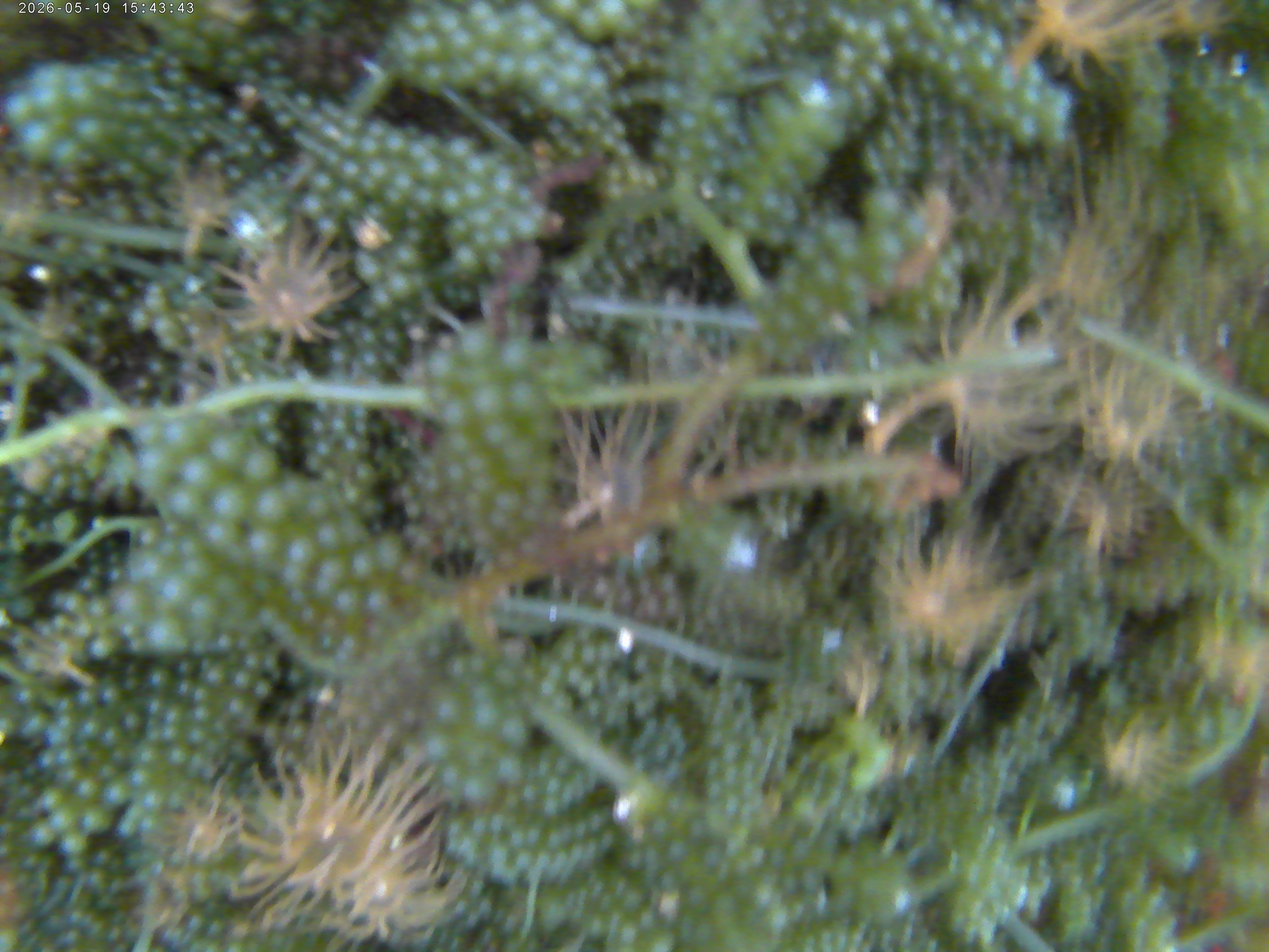Darkening: (397, 553, 423, 582), (474, 527, 502, 553), (494, 547, 522, 573), (302, 35, 328, 62), (523, 539, 549, 561), (327, 67, 350, 91), (298, 63, 321, 87), (328, 39, 352, 62), (427, 503, 450, 527), (345, 53, 368, 77), (280, 42, 300, 69), (619, 587, 639, 613), (638, 597, 657, 620), (656, 571, 674, 594), (590, 573, 607, 596), (636, 573, 652, 597), (665, 596, 682, 618), (321, 614, 339, 632), (437, 335, 454, 351), (409, 326, 425, 341), (420, 337, 436, 352), (426, 342, 441, 357)
Harvestable: (454, 328, 500, 369), (510, 386, 548, 431), (255, 490, 296, 525), (16, 122, 53, 160), (862, 192, 903, 226), (471, 386, 507, 424), (154, 577, 197, 608), (500, 344, 537, 379), (239, 449, 277, 483), (147, 620, 184, 653), (867, 231, 902, 265), (164, 423, 198, 455), (212, 487, 247, 518), (215, 436, 247, 469), (182, 455, 215, 487), (377, 535, 406, 571), (246, 526, 279, 557), (64, 78, 98, 108), (135, 447, 170, 475), (186, 595, 222, 622), (307, 495, 338, 526), (73, 115, 105, 145), (447, 60, 480, 89), (116, 590, 150, 618), (421, 353, 455, 381), (5, 95, 36, 125), (139, 554, 169, 585), (897, 214, 927, 245), (1098, 679, 1128, 710), (168, 487, 199, 517), (790, 794, 819, 826), (831, 242, 862, 271), (334, 585, 363, 616), (500, 716, 529, 747), (771, 307, 800, 338), (203, 521, 237, 547), (139, 141, 168, 171), (51, 141, 80, 170), (213, 572, 242, 601), (472, 701, 500, 731), (577, 8, 604, 39), (597, 0, 626, 28), (798, 294, 825, 324), (53, 509, 80, 539), (290, 536, 316, 567), (493, 756, 524, 782), (1012, 114, 1036, 147), (478, 20, 506, 48), (462, 774, 490, 802), (442, 399, 470, 427), (494, 56, 521, 85), (33, 86, 62, 113), (884, 10, 911, 39), (389, 272, 415, 302), (357, 260, 388, 285), (83, 807, 112, 833), (93, 69, 122, 95), (392, 244, 422, 269), (88, 634, 119, 658), (818, 221, 845, 248), (434, 698, 461, 725), (419, 157, 445, 185), (514, 27, 540, 55), (492, 664, 520, 690), (465, 2, 494, 27), (427, 385, 458, 408), (59, 830, 86, 856), (513, 216, 539, 243), (766, 906, 792, 933), (316, 522, 342, 549), (868, 265, 895, 291), (447, 31, 473, 57), (21, 712, 47, 738), (432, 8, 458, 34), (665, 837, 691, 863), (197, 16, 223, 42), (134, 740, 159, 767), (123, 121, 150, 146), (449, 430, 476, 455), (423, 65, 447, 93), (354, 548, 376, 578), (645, 931, 676, 952), (342, 517, 367, 543), (947, 82, 973, 107), (537, 76, 562, 102), (583, 914, 609, 939), (168, 27, 194, 52), (781, 21, 807, 46), (317, 558, 344, 582), (447, 138, 474, 162), (811, 263, 838, 287), (159, 98, 186, 122), (439, 190, 464, 215), (40, 785, 65, 810), (115, 98, 140, 123), (991, 70, 1016, 95), (520, 54, 545, 79), (301, 195, 325, 221), (335, 189, 361, 213), (551, 36, 577, 60), (792, 242, 818, 266), (469, 206, 495, 230), (745, 842, 769, 868), (841, 271, 867, 295), (467, 450, 493, 474), (971, 50, 993, 78), (282, 565, 311, 586), (549, 0, 578, 21), (104, 781, 128, 806), (490, 170, 515, 194), (562, 97, 586, 122), (148, 666, 172, 691), (134, 98, 158, 123), (709, 97, 734, 121), (701, 843, 725, 868), (439, 762, 463, 787), (250, 575, 275, 599), (257, 603, 282, 627), (487, 841, 511, 866), (367, 589, 390, 615), (405, 12, 431, 35), (494, 488, 520, 511), (920, 21, 944, 45), (462, 183, 486, 207), (561, 65, 585, 89), (474, 48, 498, 72), (621, 887, 645, 911), (229, 738, 253, 762), (284, 720, 308, 744), (806, 149, 830, 173), (687, 817, 711, 841), (471, 680, 495, 704), (464, 156, 487, 181), (447, 219, 470, 244), (420, 36, 443, 61), (11, 596, 36, 619), (762, 225, 787, 248), (1049, 91, 1071, 117), (424, 734, 446, 760), (55, 766, 83, 786), (127, 767, 151, 790), (72, 617, 95, 641), (223, 46, 247, 69), (87, 596, 110, 620), (85, 868, 108, 892), (255, 404, 278, 428), (365, 200, 389, 223), (93, 298, 117, 321), (164, 67, 188, 90), (316, 216, 340, 239), (724, 835, 747, 859), (454, 246, 476, 271), (469, 230, 494, 252), (660, 83, 682, 108), (270, 4, 295, 26), (140, 787, 163, 810), (415, 188, 438, 211), (62, 591, 85, 614), (1018, 86, 1041, 109), (179, 535, 202, 558), (514, 2, 537, 25), (45, 725, 68, 748), (934, 260, 957, 283), (447, 655, 470, 678), (310, 576, 334, 598), (77, 779, 101, 801), (392, 173, 416, 195), (383, 135, 407, 157), (355, 462, 377, 486), (862, 21, 883, 46), (921, 43, 942, 68), (74, 620, 100, 640), (676, 112, 698, 135), (698, 131, 720, 154), (115, 158, 138, 180), (54, 635, 76, 658), (981, 31, 1004, 53), (359, 175, 381, 198), (398, 60, 420, 83), (761, 191, 783, 214), (557, 640, 579, 663), (780, 871, 802, 894), (311, 172, 335, 193), (619, 921, 640, 945), (651, 815, 672, 839), (168, 743, 188, 768), (35, 822, 54, 848), (948, 25, 970, 47), (50, 807, 72, 829), (838, 16, 860, 38), (476, 78, 498, 100), (704, 728, 726, 750), (672, 145, 694, 167), (624, 848, 646, 870), (85, 242, 107, 264), (1026, 62, 1047, 85), (491, 228, 512, 251), (369, 160, 390, 183), (341, 161, 362, 184), (863, 64, 884, 87), (484, 250, 505, 273), (721, 739, 742, 762), (238, 65, 261, 86), (472, 475, 495, 496), (136, 425, 160, 445), (383, 188, 404, 210), (574, 46, 595, 68), (446, 463, 467, 485), (110, 203, 132, 224), (724, 184, 745, 206), (899, 37, 919, 60), (872, 46, 895, 66), (540, 795, 560, 818), (638, 908, 658, 931), (578, 643, 598, 666), (262, 56, 285, 76), (0, 926, 18, 951), (100, 724, 121, 745), (833, 43, 854, 64), (164, 704, 185, 725), (192, 703, 213, 724), (288, 587, 309, 608), (139, 815, 160, 836), (233, 139, 254, 160), (848, 296, 869, 317), (137, 475, 159, 495), (205, 667, 227, 687), (585, 71, 607, 91), (18, 688, 40, 708), (998, 100, 1018, 122), (59, 928, 81, 948), (149, 117, 169, 139), (154, 316, 177, 335), (513, 850, 533, 871), (233, 669, 253, 690), (158, 537, 178, 558), (404, 206, 424, 227), (76, 148, 96, 169), (404, 225, 425, 245), (470, 654, 490, 675), (545, 660, 565, 681), (243, 123, 264, 143), (343, 484, 363, 505), (536, 18, 557, 38), (243, 39, 263, 60), (944, 56, 966, 75), (566, 664, 585, 686), (64, 855, 86, 874), (649, 141, 672, 159), (159, 333, 183, 350), (96, 762, 116, 782), (400, 40, 420, 60), (146, 291, 166, 311), (538, 678, 558, 698), (214, 633, 234, 653), (706, 155, 726, 175), (243, 651, 263, 671), (534, 849, 554, 869), (465, 878, 485, 898), (139, 526, 159, 546), (34, 619, 54, 639), (51, 471, 70, 492), (949, 110, 968, 131), (228, 695, 247, 716), (302, 603, 319, 626), (546, 826, 563, 849), (513, 188, 533, 207), (359, 139, 379, 158), (78, 575, 98, 594), (408, 142, 428, 161), (833, 65, 852, 85), (93, 847, 112, 867), (204, 736, 223, 756), (546, 118, 566, 137), (147, 357, 167, 376), (606, 182, 625, 202), (965, 19, 983, 40), (506, 828, 524, 849), (723, 764, 741, 785), (528, 206, 547, 225), (117, 819, 136, 838), (317, 632, 336, 651), (56, 747, 75, 766), (424, 476, 443, 495), (321, 123, 340, 142), (660, 121, 678, 141), (130, 312, 150, 330), (522, 783, 540, 803), (724, 794, 742, 814), (706, 779, 724, 799), (63, 595, 85, 611), (913, 0, 935, 16), (186, 726, 204, 745), (253, 680, 271, 699), (339, 136, 357, 155), (372, 291, 390, 310), (52, 614, 71, 632), (545, 776, 563, 795), (207, 919, 226, 937), (704, 756, 722, 775), (190, 751, 208, 770), (188, 912, 206, 931), (304, 111, 323, 129), (193, 884, 212, 902), (191, 868, 209, 887), (287, 667, 305, 686), (457, 286, 476, 304), (770, 4, 788, 23), (360, 350, 378, 369), (128, 636, 146, 655), (598, 892, 616, 911), (275, 111, 293, 129), (383, 327, 401, 345), (9, 515, 27, 533), (852, 82, 870, 100), (46, 452, 64, 470), (269, 931, 287, 949), (126, 804, 144, 822), (161, 725, 178, 744), (469, 818, 488, 835), (552, 850, 569, 869), (369, 121, 386, 140), (503, 791, 520, 810), (264, 428, 283, 445), (315, 439, 332, 458), (101, 688, 121, 704), (81, 720, 98, 738), (525, 827, 542, 845), (342, 115, 360, 132), (325, 153, 342, 171), (193, 686, 211, 703), (164, 519, 182, 536), (112, 283, 130, 300), (936, 4, 953, 22), (121, 620, 138, 638), (616, 141, 633, 159), (191, 638, 208, 656), (360, 327, 377, 345), (70, 485, 88, 502), (288, 700, 305, 718), (57, 696, 74, 714), (107, 565, 124, 583), (0, 819, 17, 837), (39, 751, 55, 770), (123, 711, 139, 730), (491, 812, 506, 832), (572, 819, 587, 839), (599, 829, 613, 850), (149, 698, 166, 715), (406, 501, 423, 518), (123, 675, 140, 692), (211, 719, 228, 736), (226, 165, 243, 182), (360, 303, 377, 320), (77, 689, 95, 705), (447, 822, 465, 838), (590, 810, 603, 832), (559, 826, 574, 845), (176, 677, 190, 697), (0, 839, 14, 859), (0, 364, 14, 384), (177, 660, 194, 676), (13, 494, 30, 510), (149, 858, 165, 875), (399, 483, 415, 500), (148, 283, 166, 298), (146, 729, 162, 745), (201, 762, 217, 778), (568, 844, 584, 860), (331, 417, 347, 433), (168, 851, 184, 867), (226, 940, 247, 952), (107, 748, 126, 761), (201, 940, 221, 952), (60, 716, 79, 728), (88, 563, 103, 578), (265, 655, 281, 669), (585, 840, 598, 857), (53, 618, 72, 629), (503, 870, 517, 884), (492, 863, 507, 876), (274, 670, 284, 682)
